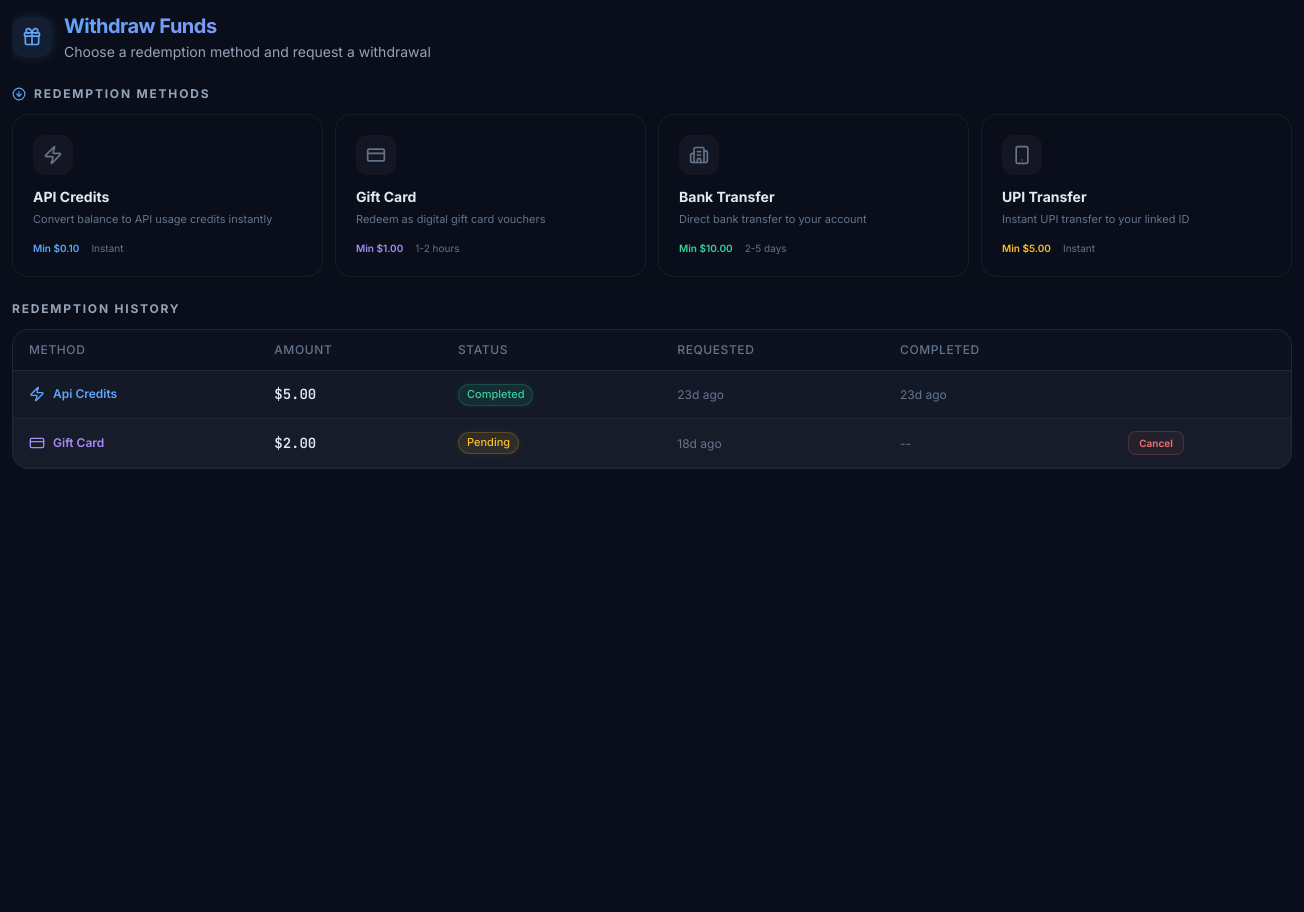
Scenario: RedeemPage › shows minimum amount validation
Click the text "Bank Transfer" at coordinates (727, 196), box [679,188,775,205]
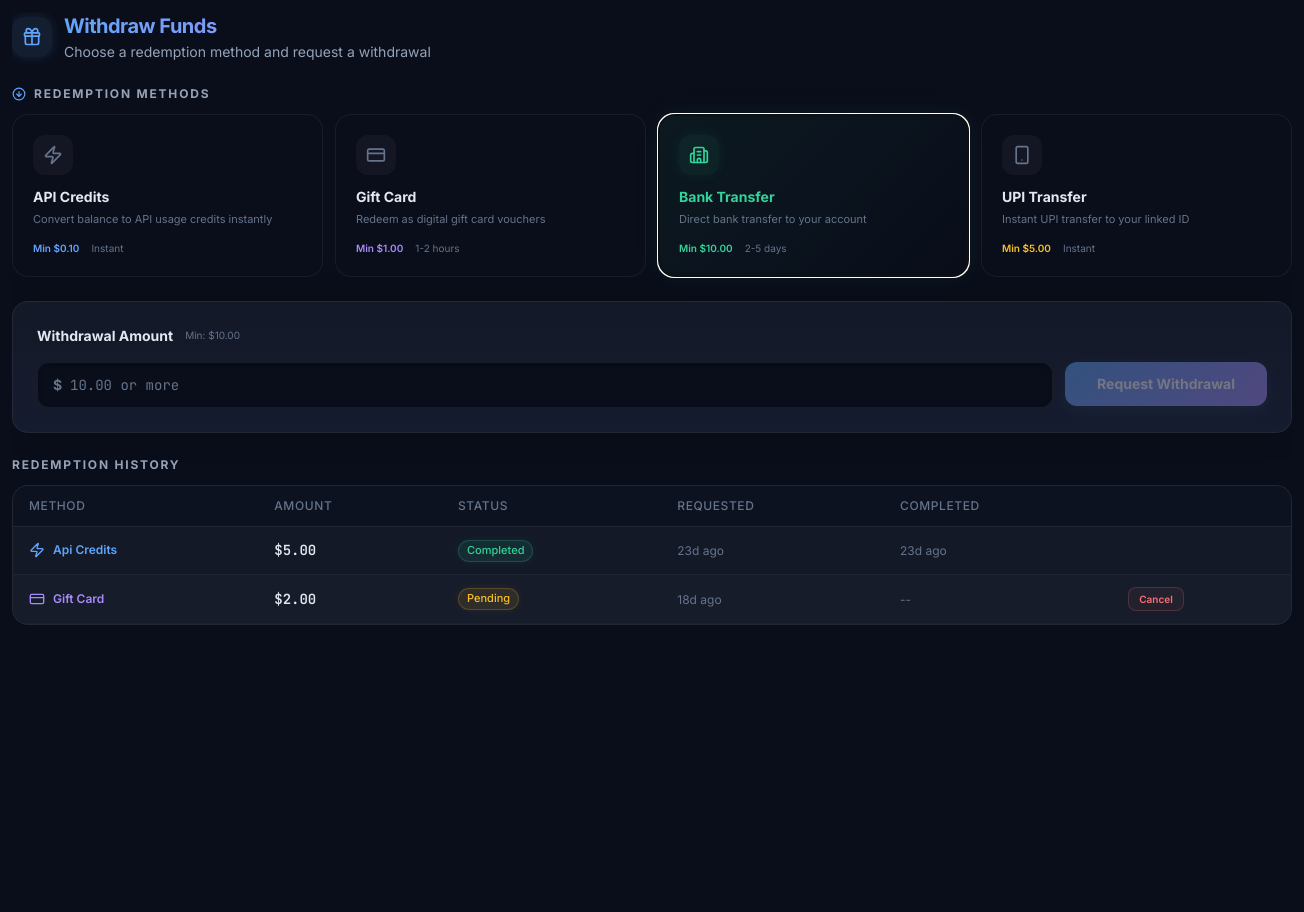
Check: the text "Min: $10.00" is shown, box [185,328,240,343]
Type "5" into the number field with placeholder "10.00 or more" at coordinates (545, 385), box [37,362,1053,408]
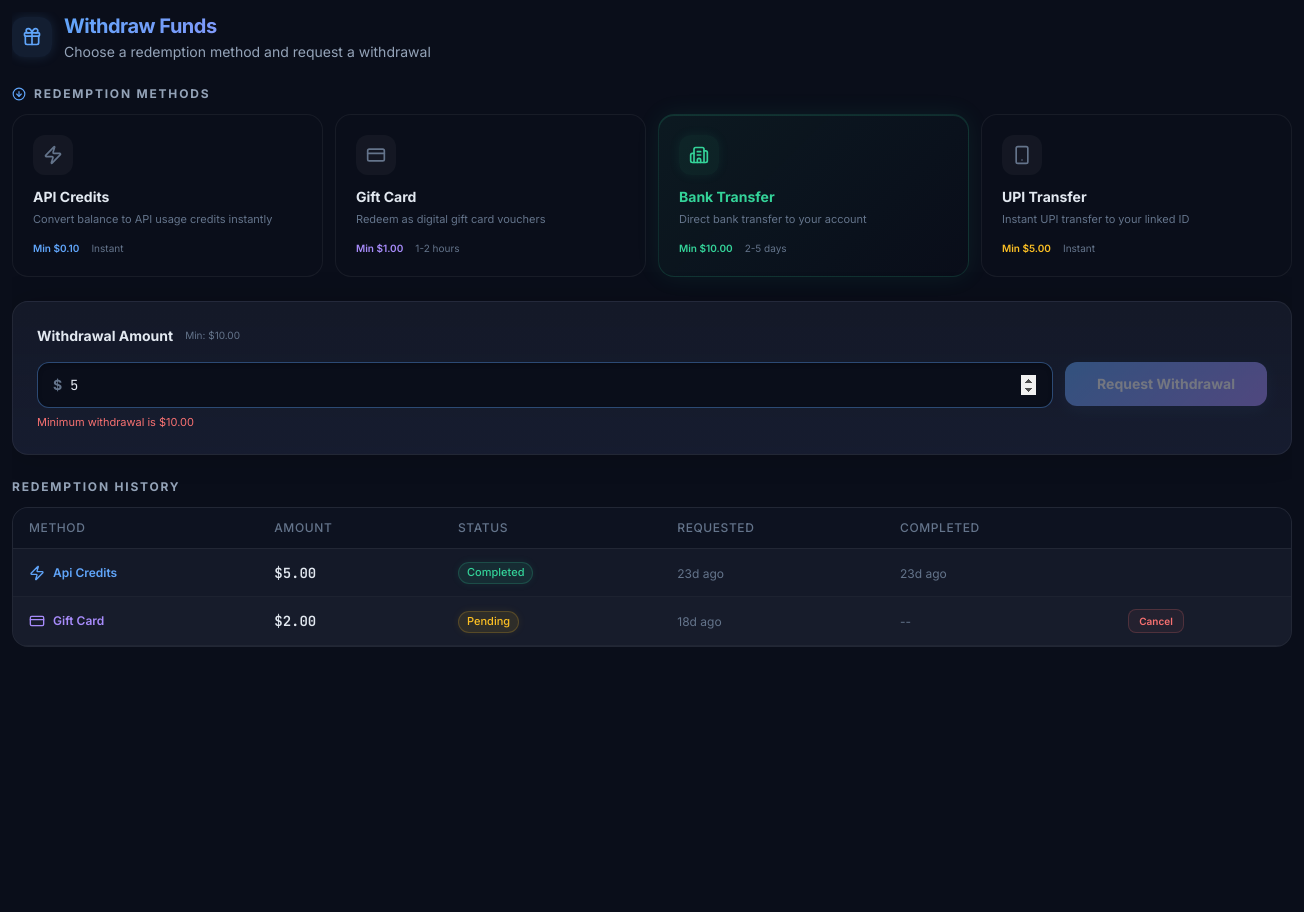
Check: the text "Minimum withdrawal is $10.00" is shown, box [37,415,194,429]
